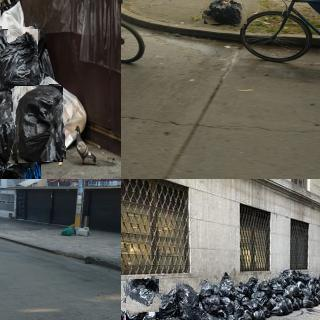Garbage: (13, 85, 65, 163), (0, 91, 45, 179), (0, 27, 39, 86), (124, 277, 161, 314), (202, 0, 248, 26), (175, 280, 200, 309), (218, 274, 238, 298), (268, 299, 289, 315), (257, 279, 272, 294), (286, 283, 300, 297), (202, 312, 224, 320), (252, 308, 265, 320), (60, 227, 76, 236), (76, 227, 89, 237), (224, 315, 245, 320)
